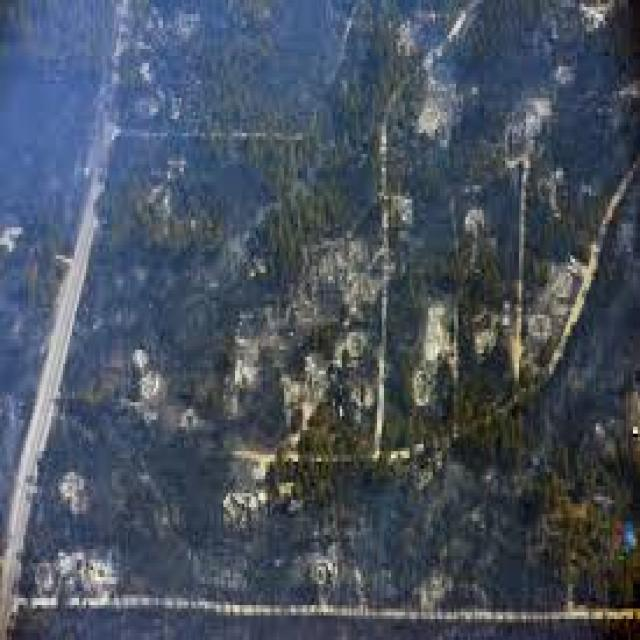Smoke: (0, 0, 303, 243), (0, 468, 315, 640), (370, 14, 620, 222), (21, 250, 266, 460), (311, 470, 604, 638), (406, 257, 638, 464)
